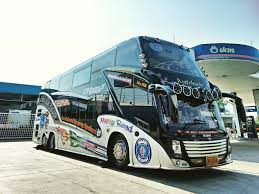bus: (31, 35, 233, 171)
